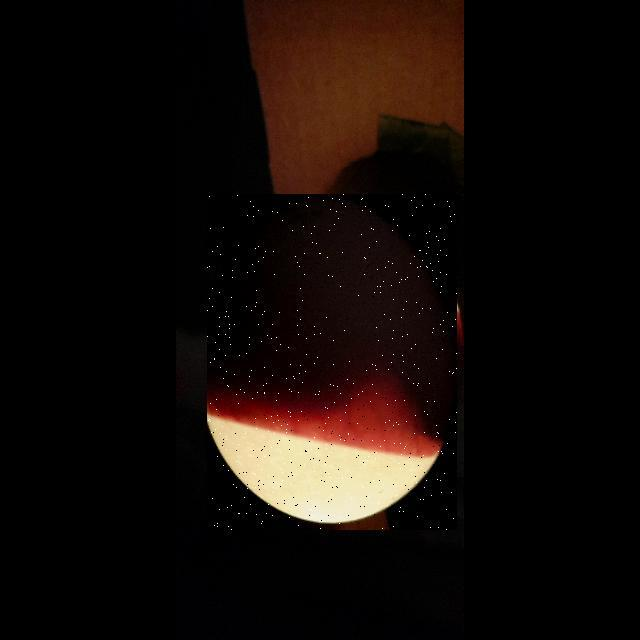Fertile: (207, 194, 457, 530)
